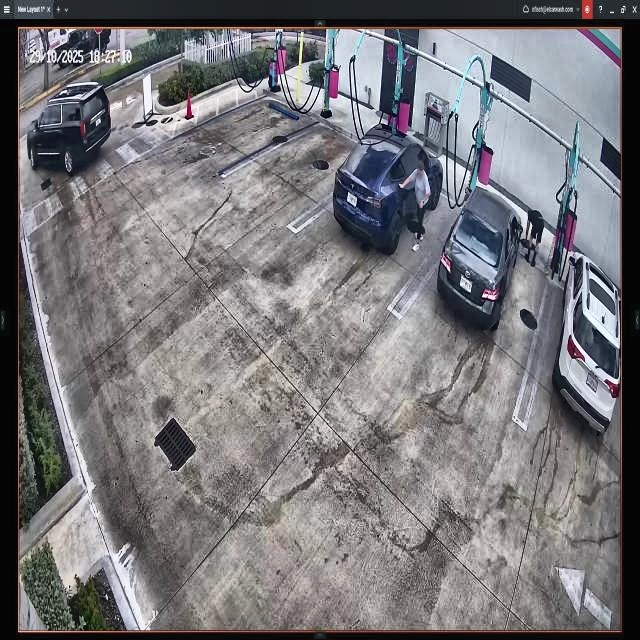Car: (332, 124, 443, 250), (440, 187, 520, 330)
